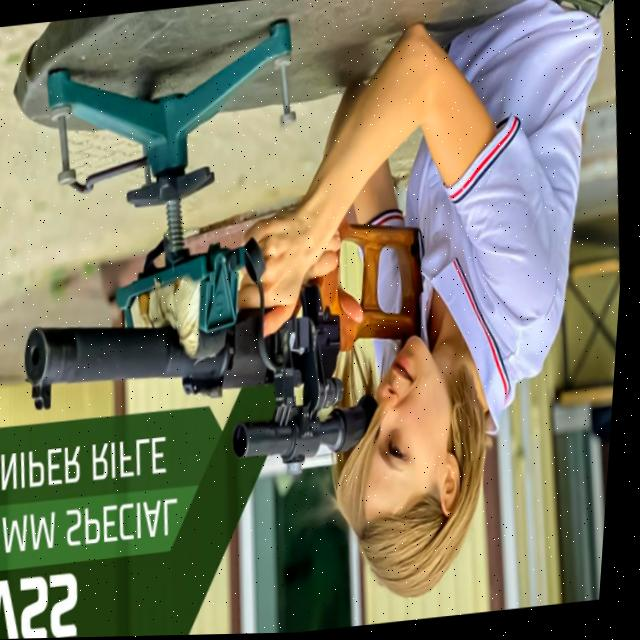firearm: (12, 217, 448, 503)
